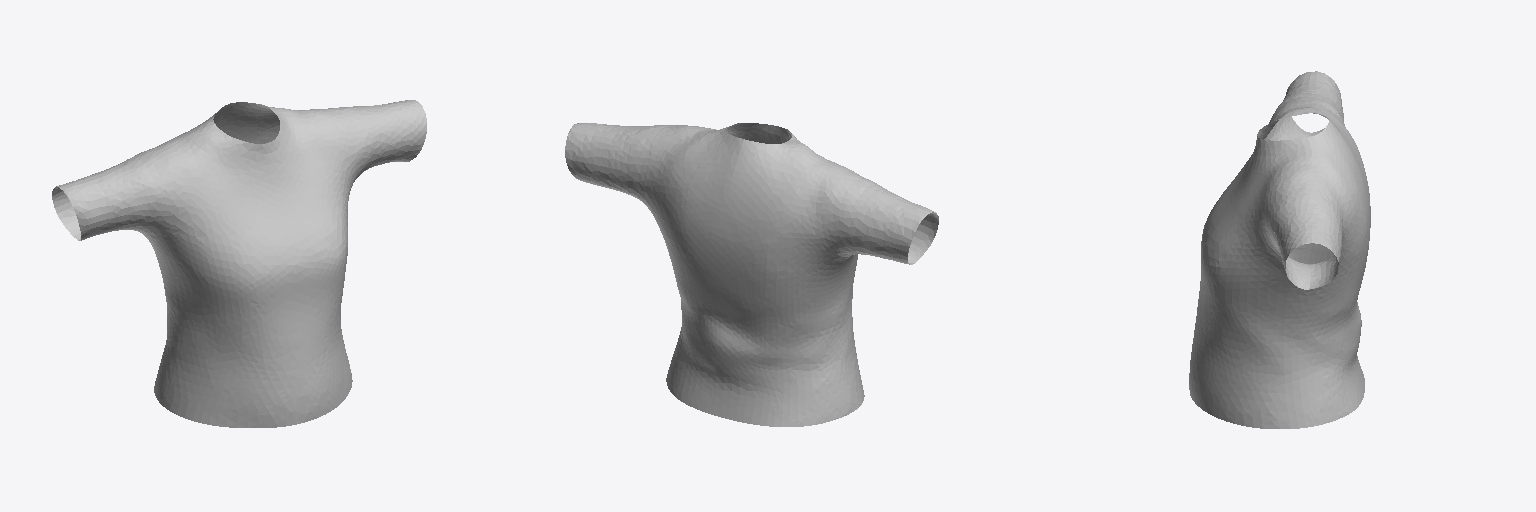
The model's file is tshirt_full.obj.
The picture shows the model from 3 angles: view 1: azimuth 30°, elevation 25°; view 2: azimuth 150°, elevation 25°; view 3: azimuth 270°, elevation 25°; orthographic projection.
Visible parts, largest first — view 1: tshirt; view 2: tshirt; view 3: tshirt.
Boxes of the visible parts, x1=… form: tshirt: x1=52, y1=100, x2=426, y2=427; tshirt: x1=565, y1=123, x2=938, y2=426; tshirt: x1=1189, y1=71, x2=1370, y2=428.
Size of the model in its own units: 0.8323 by 0.603 by 0.3678.